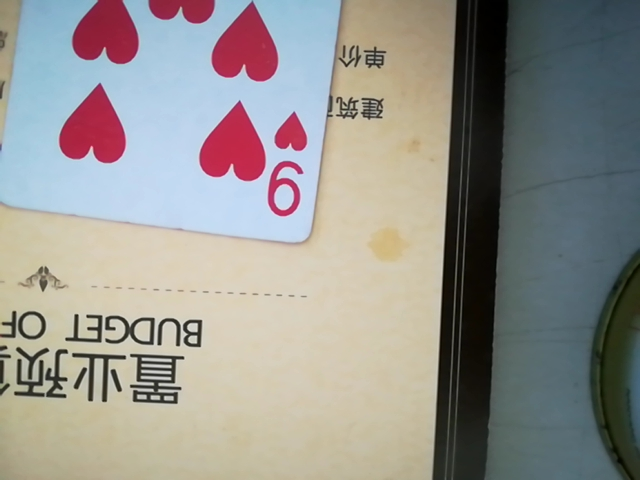hx 9: (1, 3, 364, 248)
